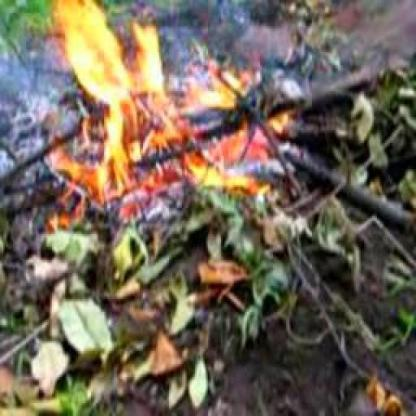fire: (36, 0, 266, 239)
